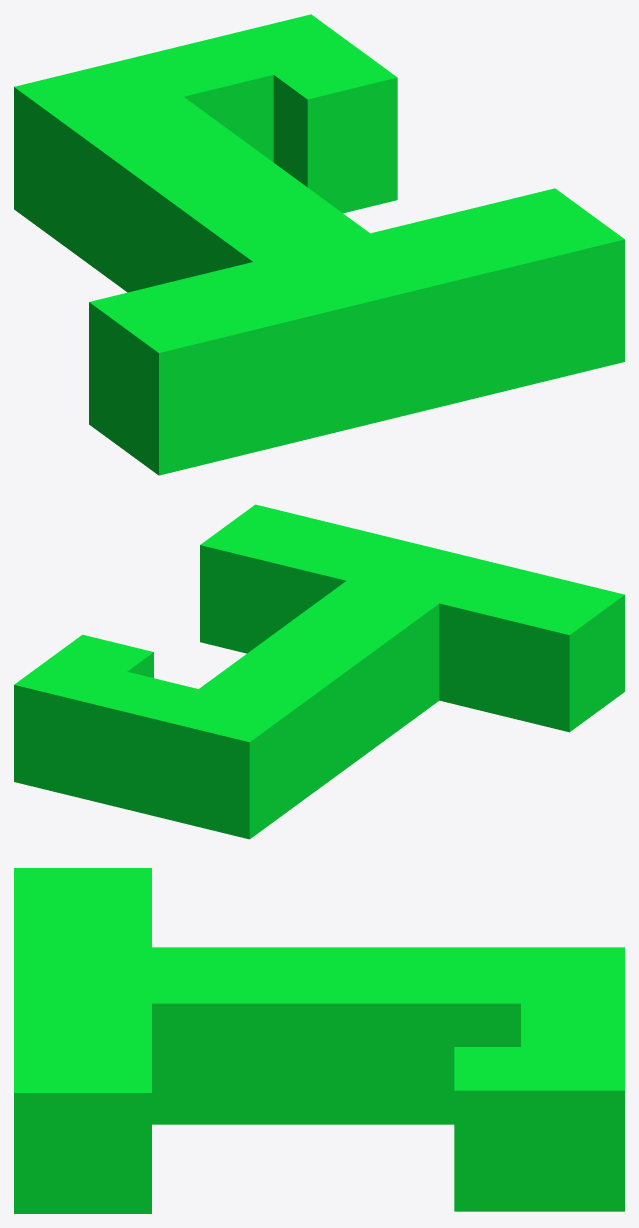
File: LetterJ.obj
3 views of the same model, one above another, from view 1: azimuth 30°, elevation 25°; view 2: azimuth 150°, elevation 25°; view 3: azimuth 270°, elevation 25° (orthographic). The views are drawn at different scales.
Parts seen in each view (by area): view 1: LetterJ; view 2: LetterJ; view 3: LetterJ.
Boxes of the visible parts, x1=… form: LetterJ: x1=14, y1=14, x2=624, y2=475; LetterJ: x1=14, y1=504, x2=624, y2=839; LetterJ: x1=14, y1=868, x2=624, y2=1213.
Bounding box in the file's own units: 3.98 × 1 × 4.57.
